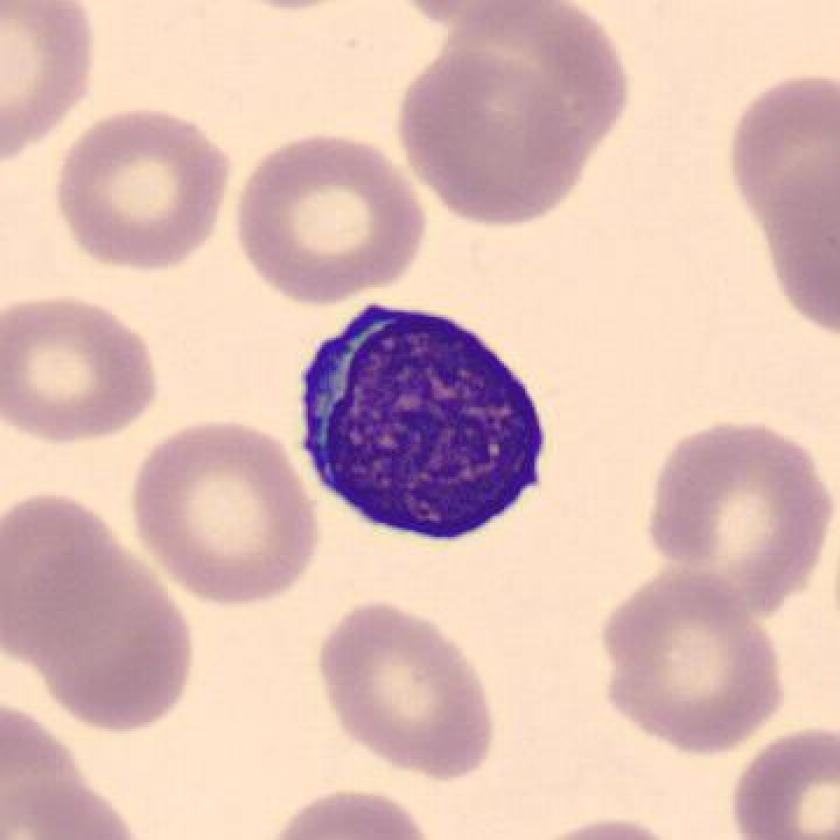lymphocyte: (284, 288, 557, 556)
